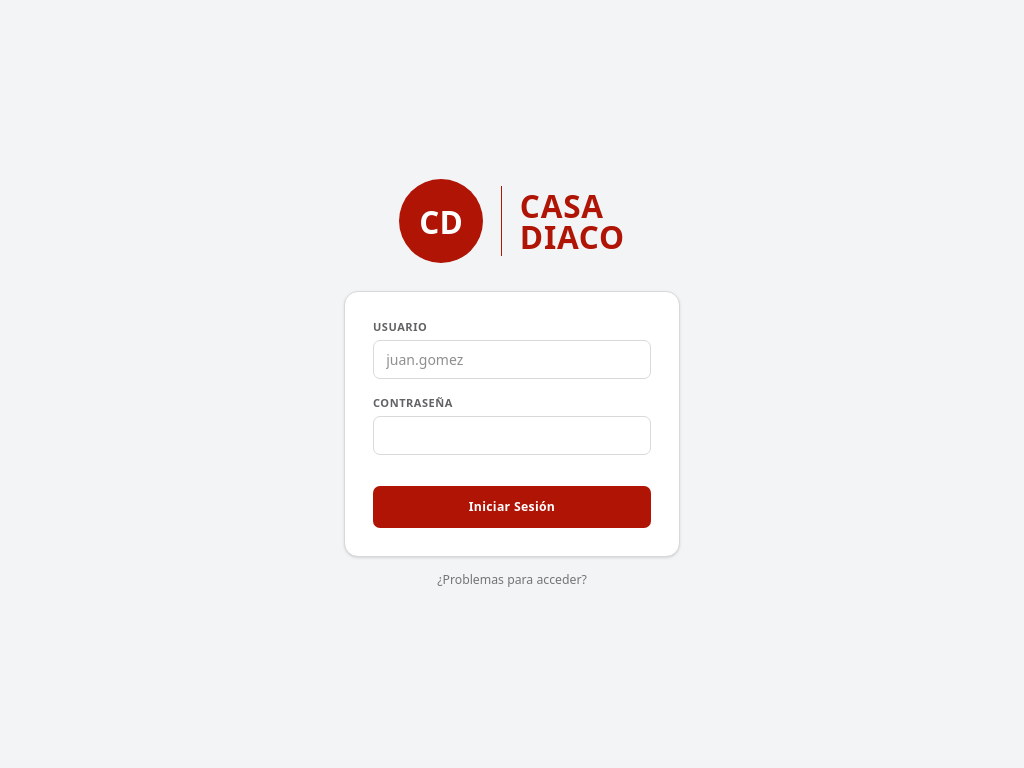
Test case: App › shows an error message when the credentials are invalid
Type "ada" into the field labelled "Usuario" at (512, 360), box [373, 340, 651, 379]
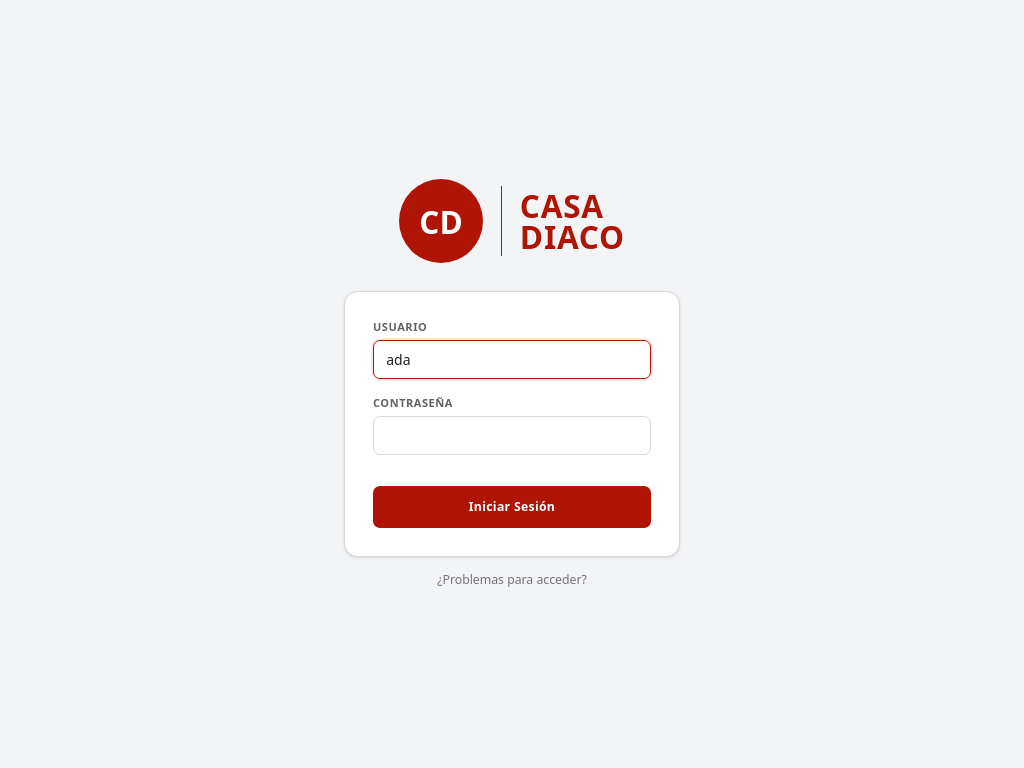
Type "mala" into the password field labelled "Contraseña" at (512, 435), box [373, 416, 651, 455]
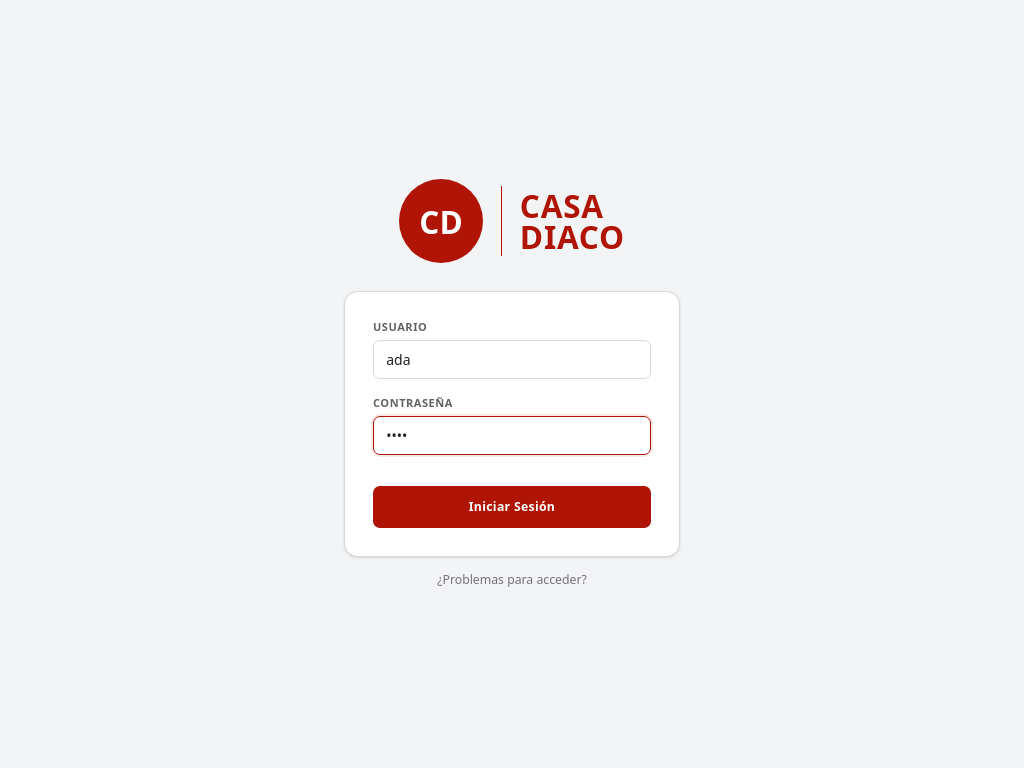
Click the button "Iniciar Sesión" at (512, 507), box [373, 486, 651, 528]
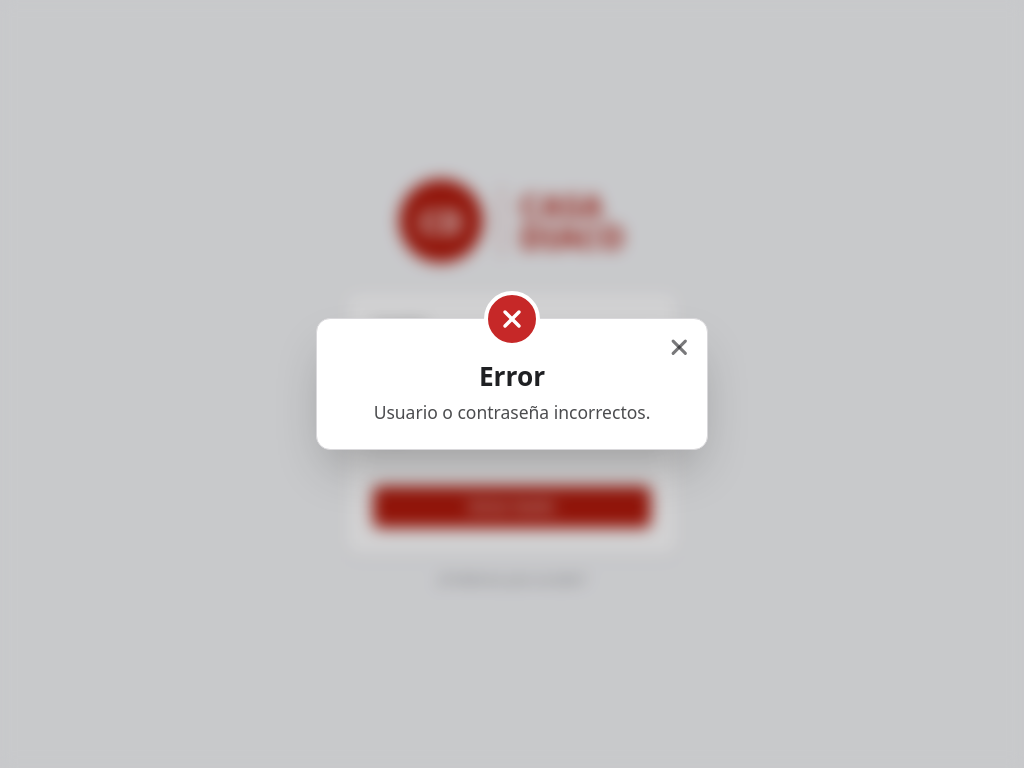
expect the message shows "Usuario o contraseña incorrectos.": met, box [374, 400, 650, 424]
